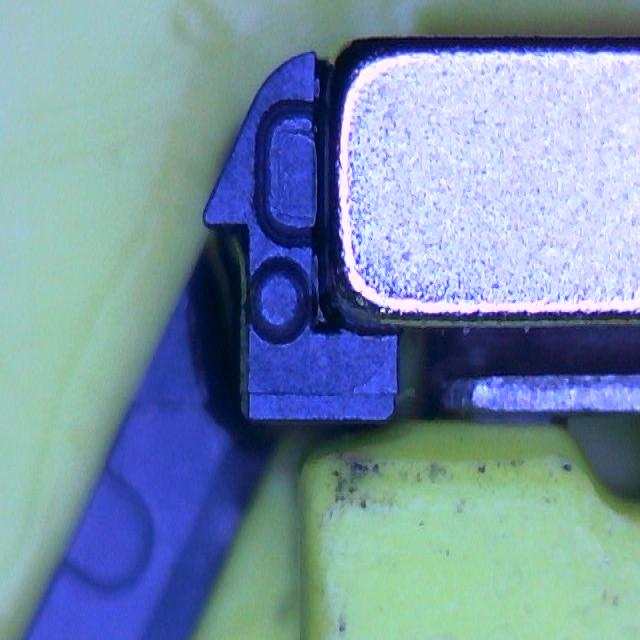lacking: (252, 96, 323, 250)
